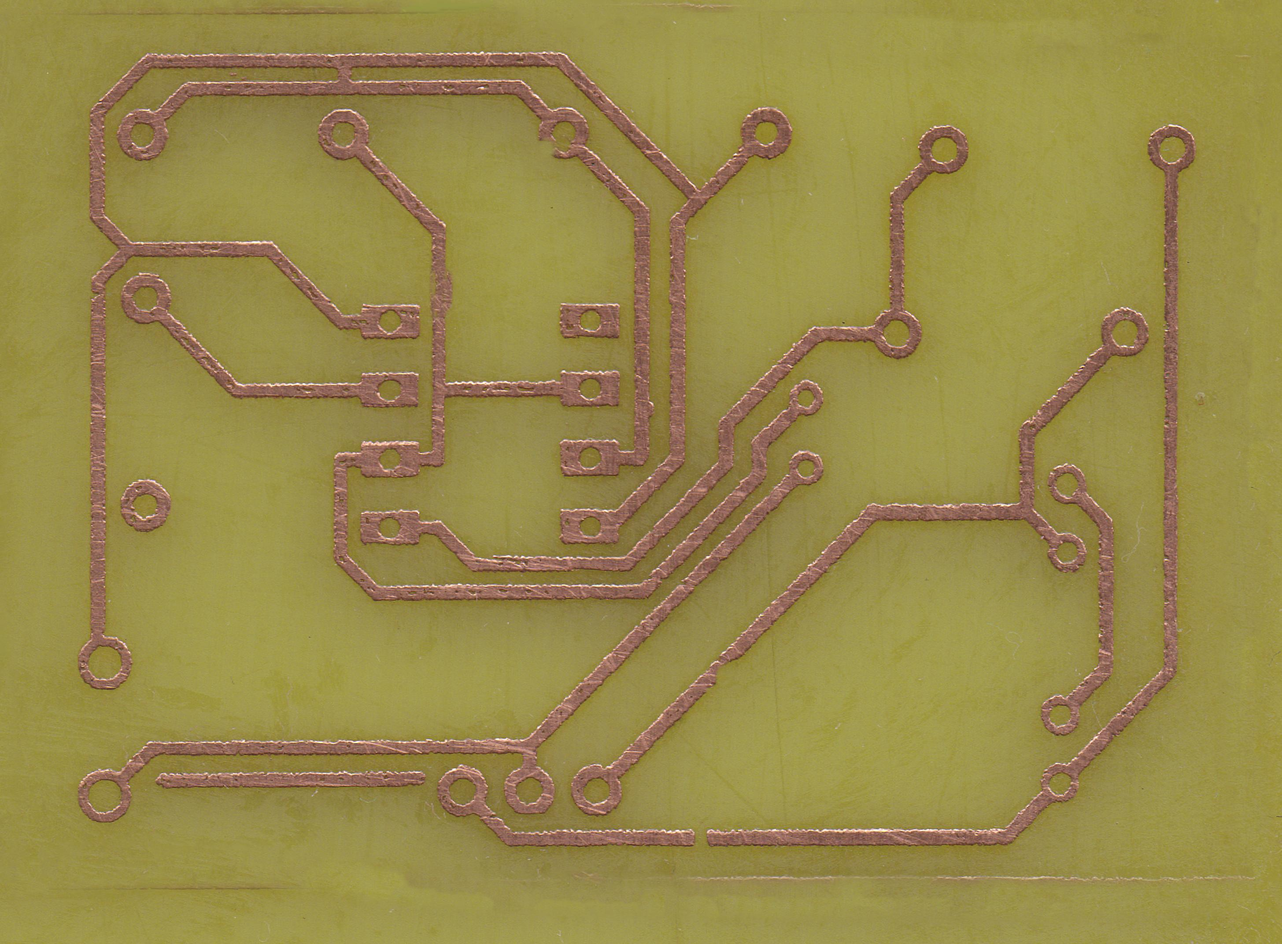missing_hole: (537, 106, 590, 164)
mouse_bite: (706, 653, 744, 683)
open_circuit: (681, 826, 720, 849)
short: (325, 50, 368, 93)
spur: (429, 258, 455, 317)
spurious_copper: (152, 771, 428, 792)
